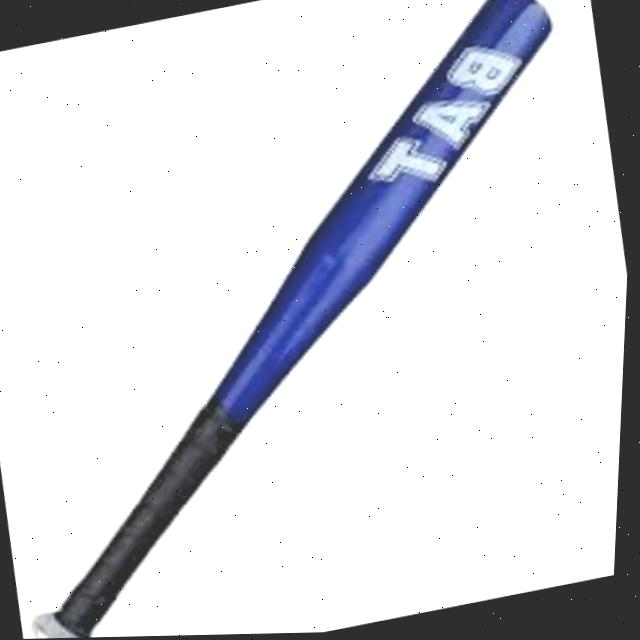baseball bat: (38, 0, 555, 639)
